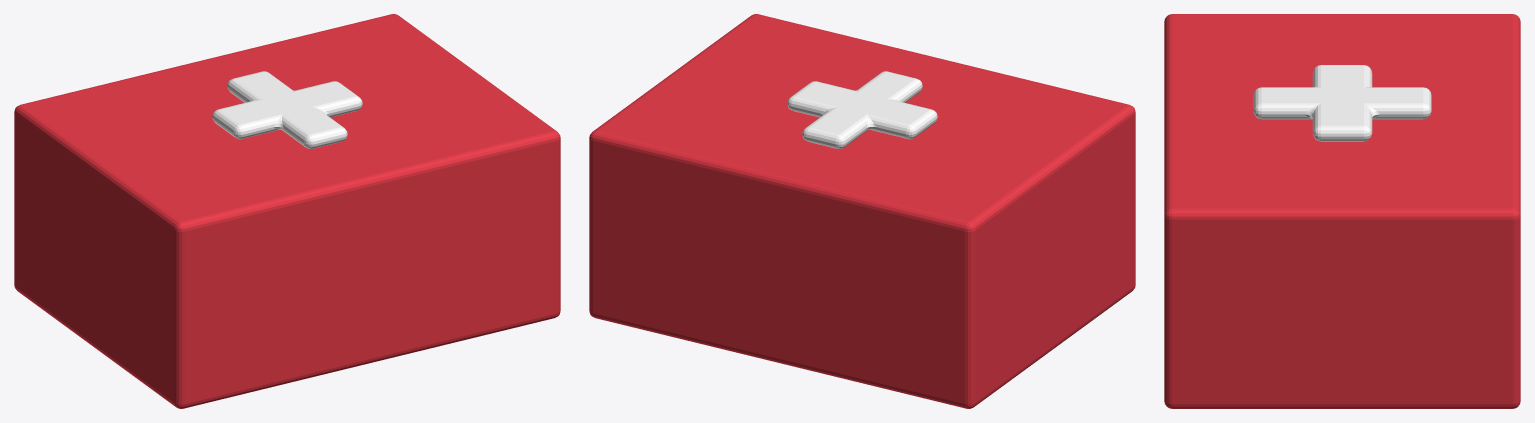
The model's file is Medkit.fbx.
3 renders of one model, left to right at view 1: azimuth 30°, elevation 25°; view 2: azimuth 150°, elevation 25°; view 3: azimuth 270°, elevation 25°, orthographic. The views are drawn at different scales.
Parts seen in each view (by area): view 1: MedKit; view 2: MedKit; view 3: MedKit.
Boxes of the visible parts, x1,y1,x2,y2 form: MedKit: [14, 14, 560, 408]; MedKit: [589, 14, 1135, 408]; MedKit: [1164, 14, 1520, 408].
Size of the model in its own units: 100 by 50 by 75.
